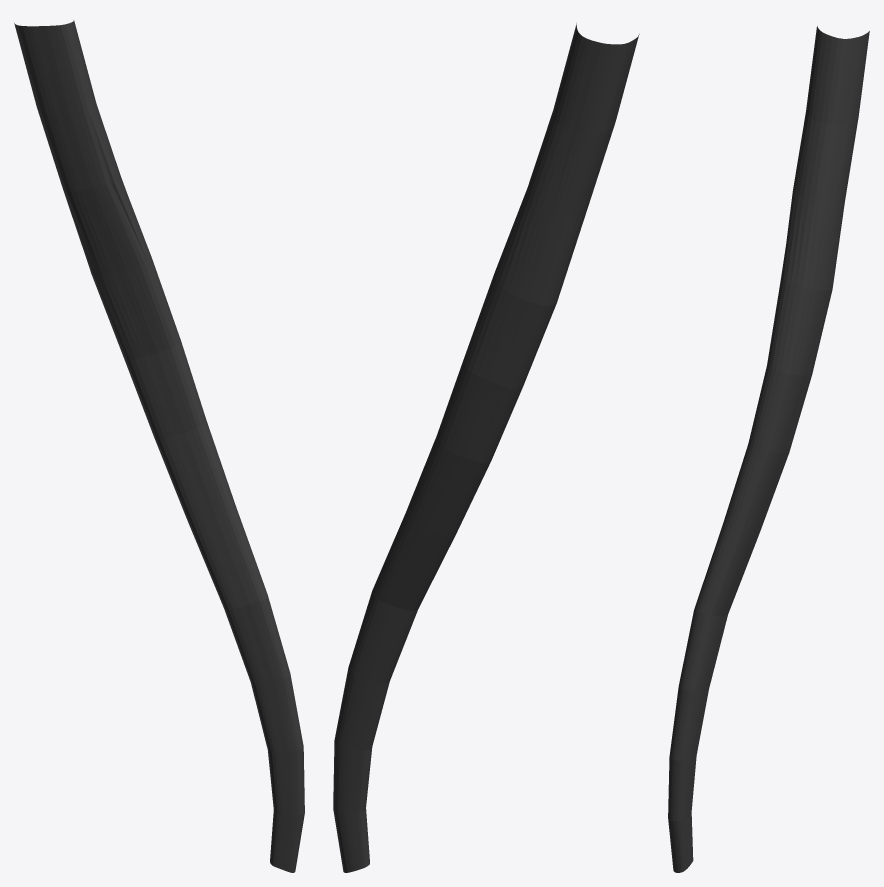
File: N_5_trigeminus_mandibular_mylohyoid.glb
The picture shows the model from 3 angles, left to right: view 1: azimuth 30°, elevation 25°; view 2: azimuth 210°, elevation 25°; view 3: azimuth 270°, elevation 25°; orthographic projection. The views are drawn at different scales.
Visible parts, largest first — view 1: N_5_trigeminus_mandibular_mylohyoid; view 2: N_5_trigeminus_mandibular_mylohyoid; view 3: N_5_trigeminus_mandibular_mylohyoid.
Part boxes in pixels (x1,y1,x2,y2): N_5_trigeminus_mandibular_mylohyoid: [14, 20, 304, 872]; N_5_trigeminus_mandibular_mylohyoid: [333, 23, 639, 872]; N_5_trigeminus_mandibular_mylohyoid: [668, 26, 869, 872].
Bounding box in the file's own units: 0.00181 × 0.00735 × 0.00173.
Materials: 1 (1 with a texture image).
